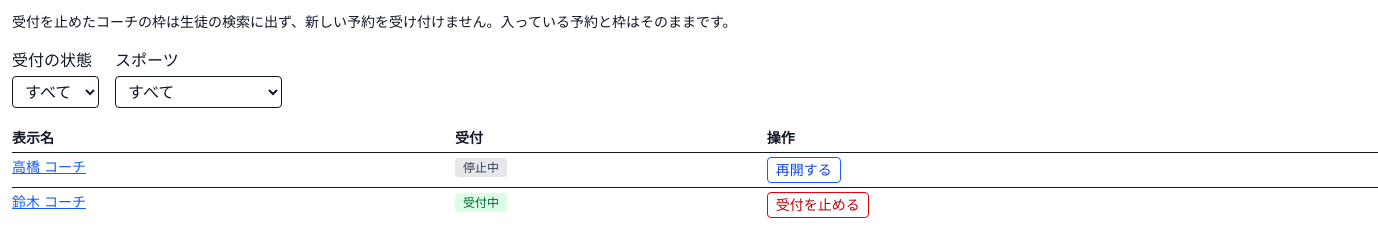
Test: 本部のコーチの受付の絞り込み › 絞り込んだ読み直しが失敗したときはその文言だけを出す
This screenshot has width=1378, height=239.
Expected: the table named "コーチの一覧" is shown, [12, 124, 1377, 222]
Select "受付中" in the dropdown labelled "受付の状態". click: point(56, 92)
box: [12, 76, 99, 108]
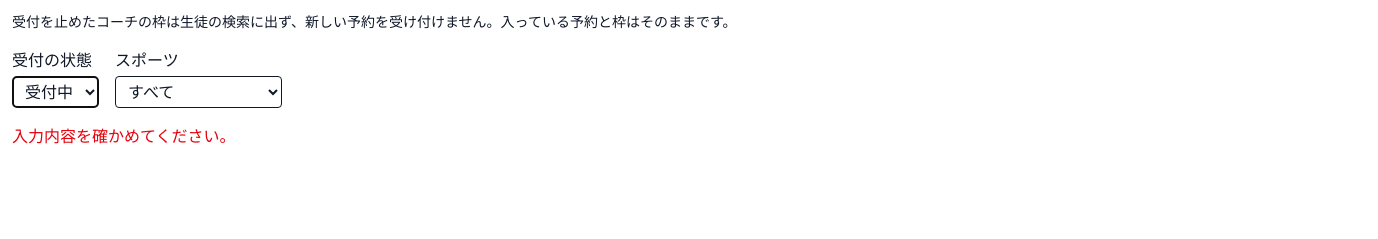
Expected: the message reads "入力内容を確かめてください。", [12, 126, 236, 146]
Expected: the table is gone
